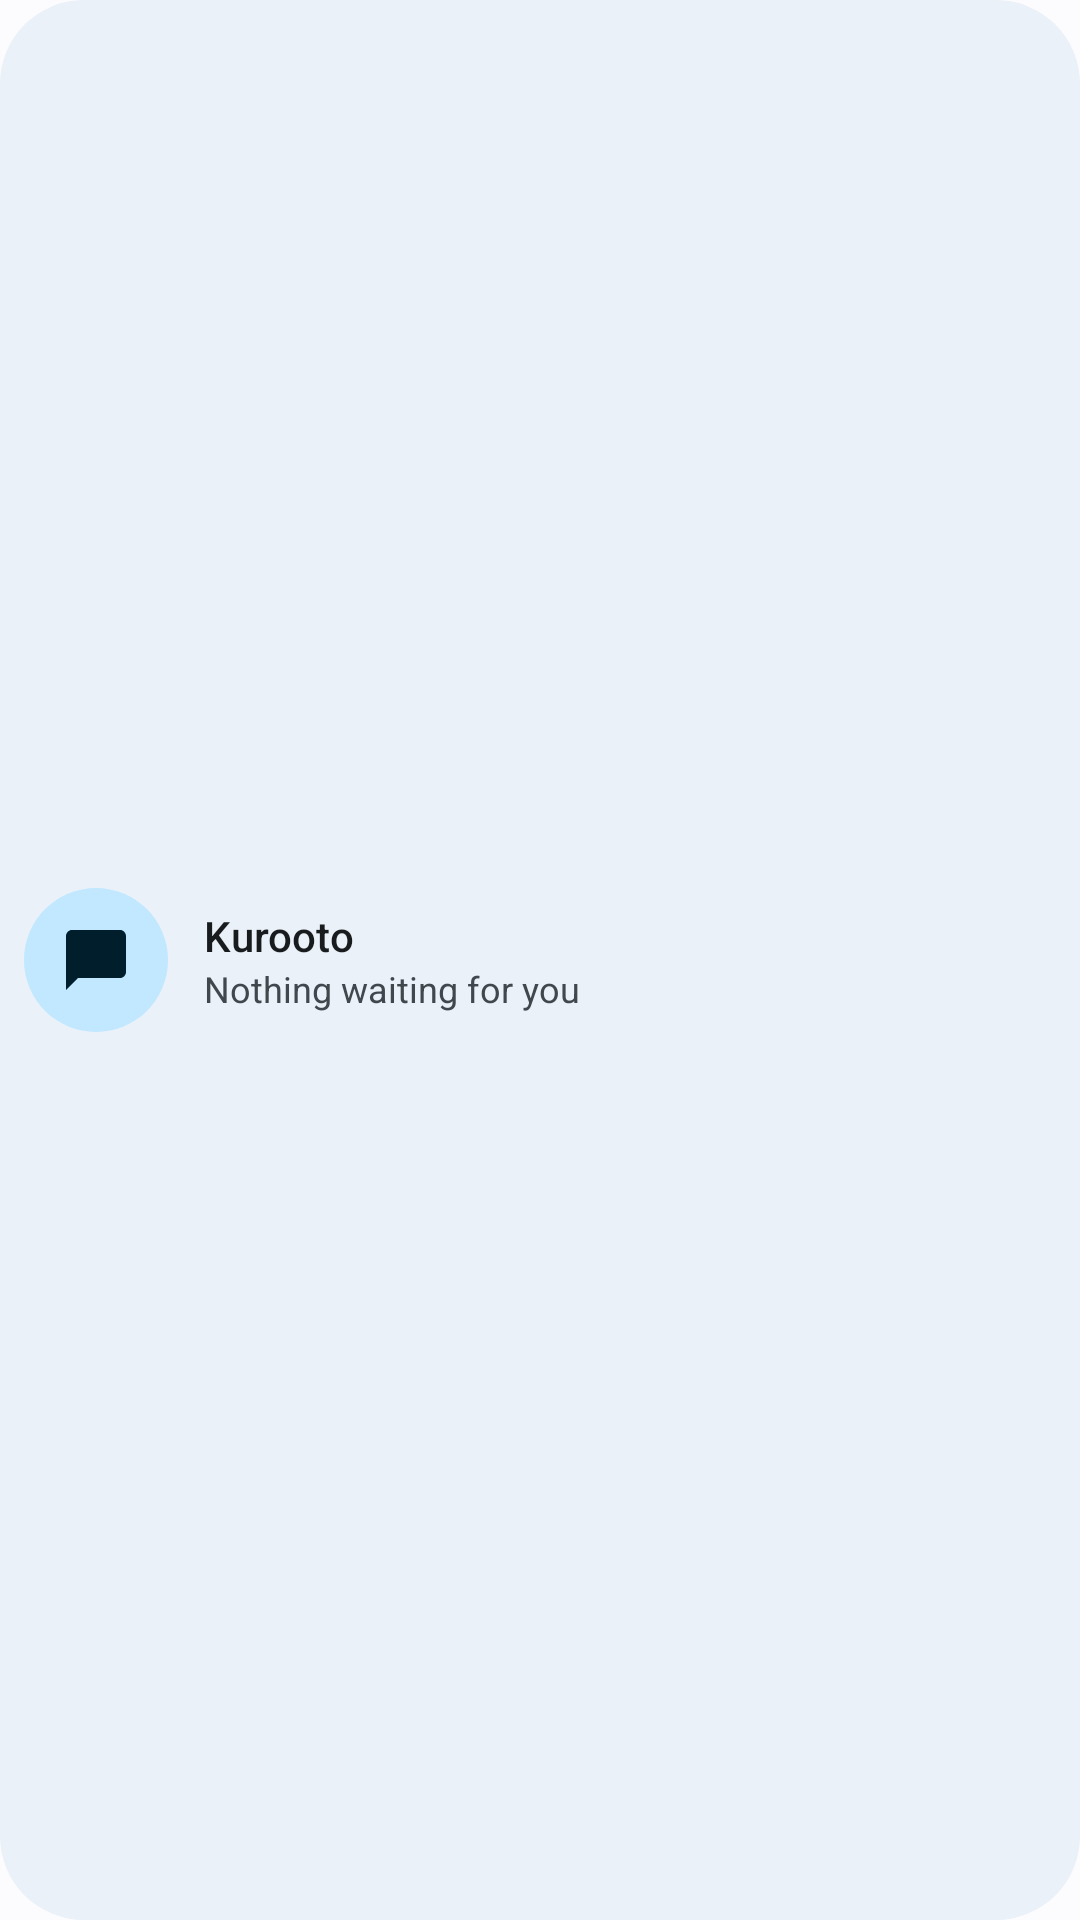

Icons on this 1080 × 1920 Android screen, each with the point to tap as point (x, y):
talk: point (96, 960)
